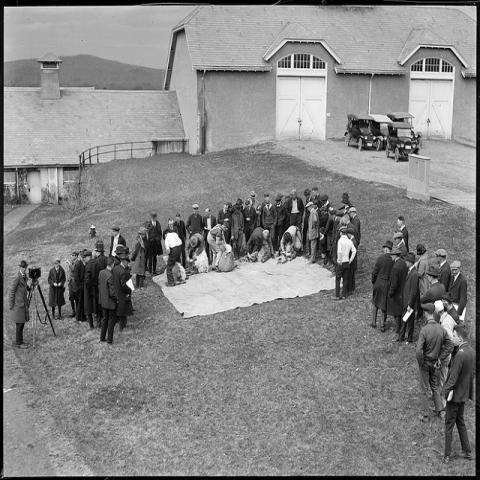car: (344, 114, 392, 152), (387, 111, 423, 151), (385, 121, 420, 162)
